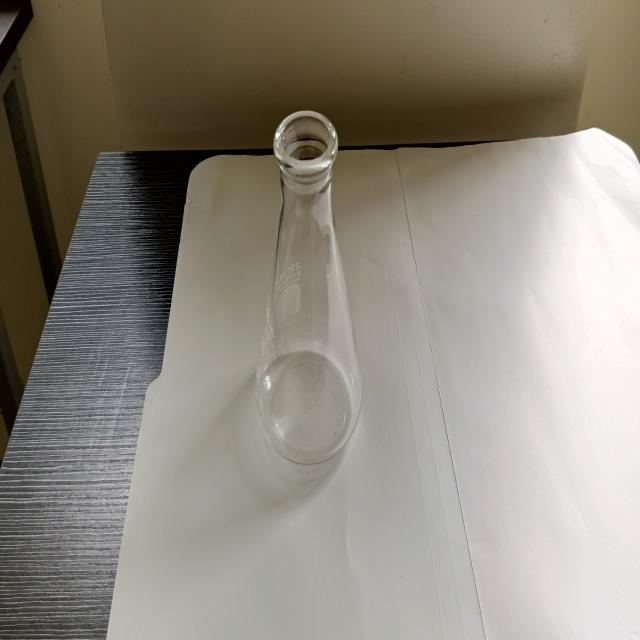erlenmeyer_flask: (245, 95, 371, 480)
